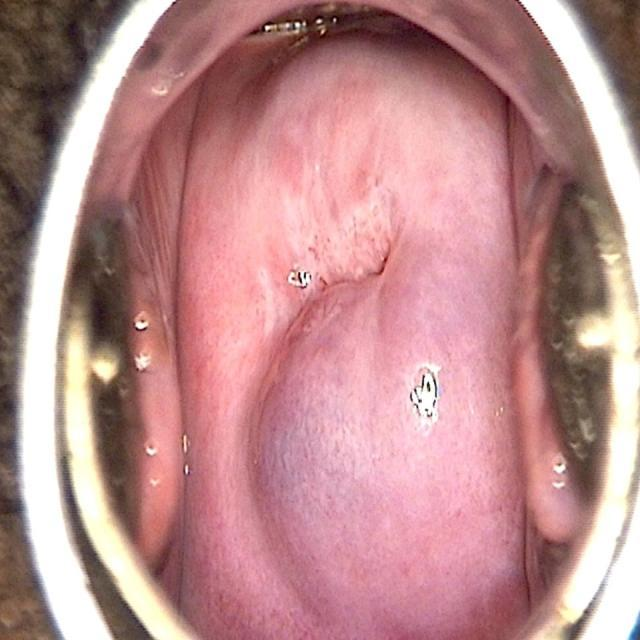cervical_lesion: (233, 155, 465, 551)
